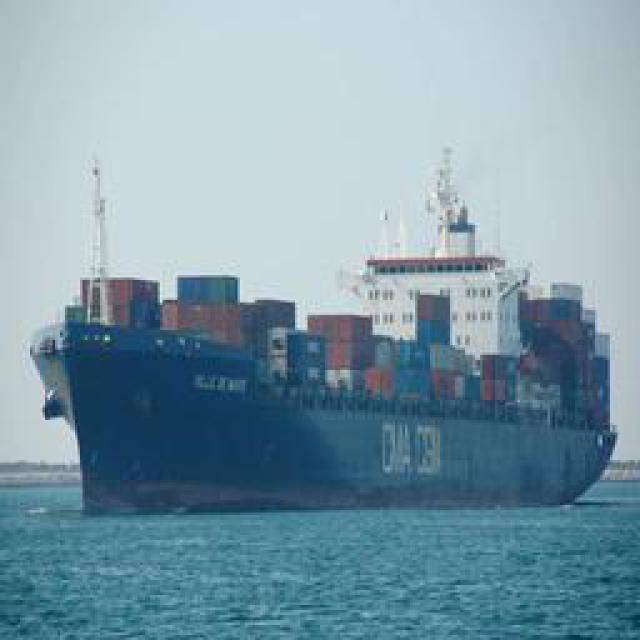Ship: (38, 120, 623, 518)
